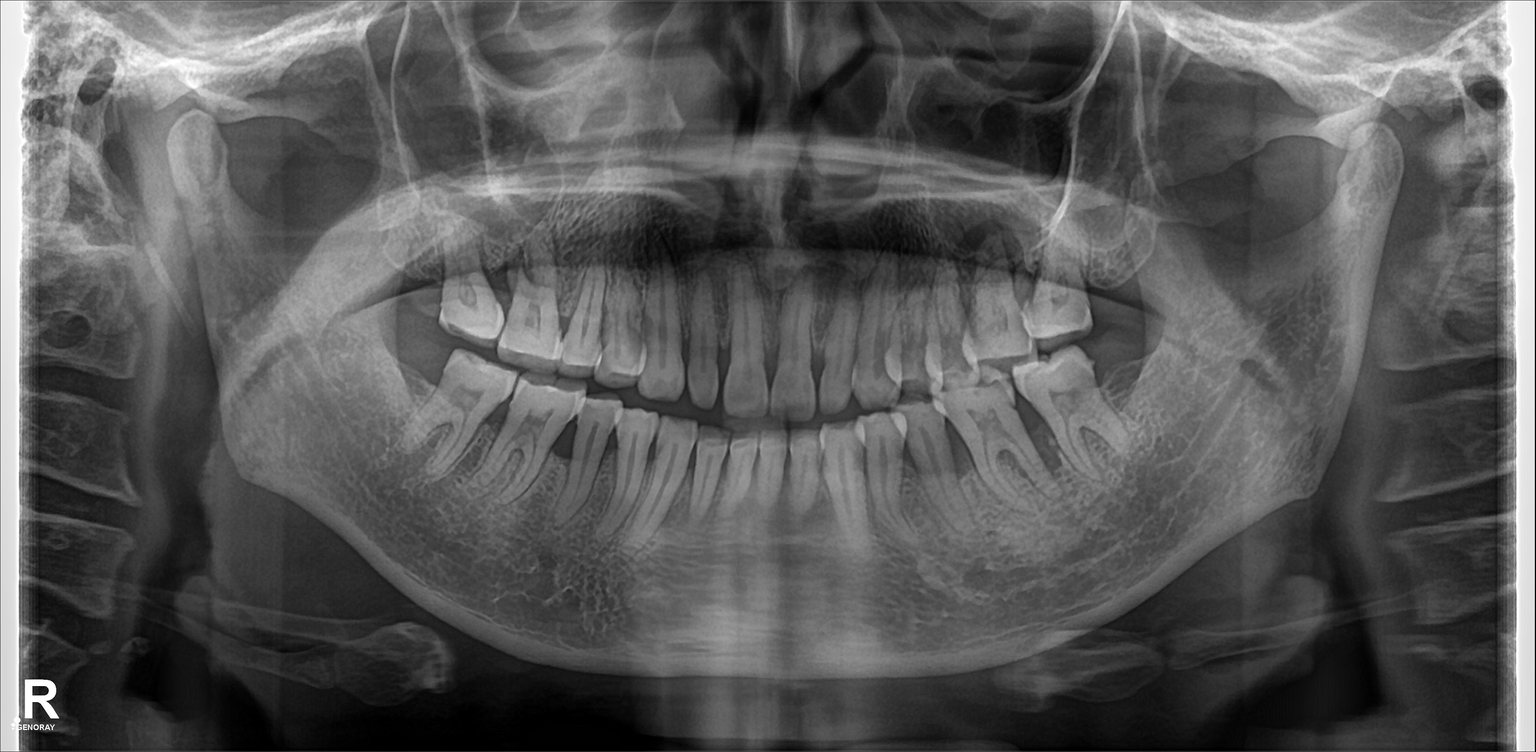Missing Tooth: (1088, 235, 1141, 331), (402, 227, 448, 316), (1110, 346, 1152, 426), (395, 344, 438, 420)
